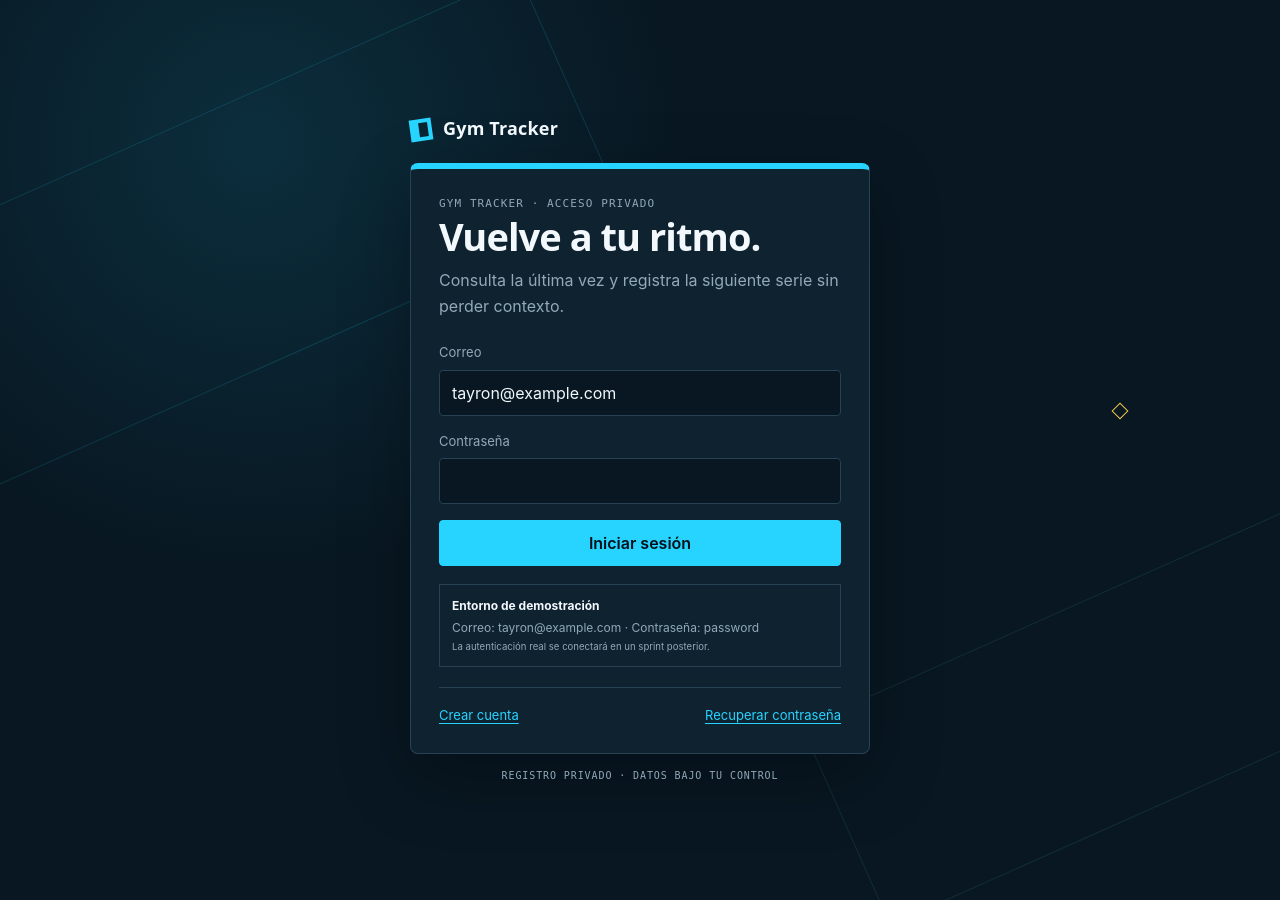
autenticación simulada › muestra error seguro, conserva el correo y limpia la contraseña
Replace the text in the field labelled "Correo" with "alguien@example.com": (640,393) [439,370,841,416]
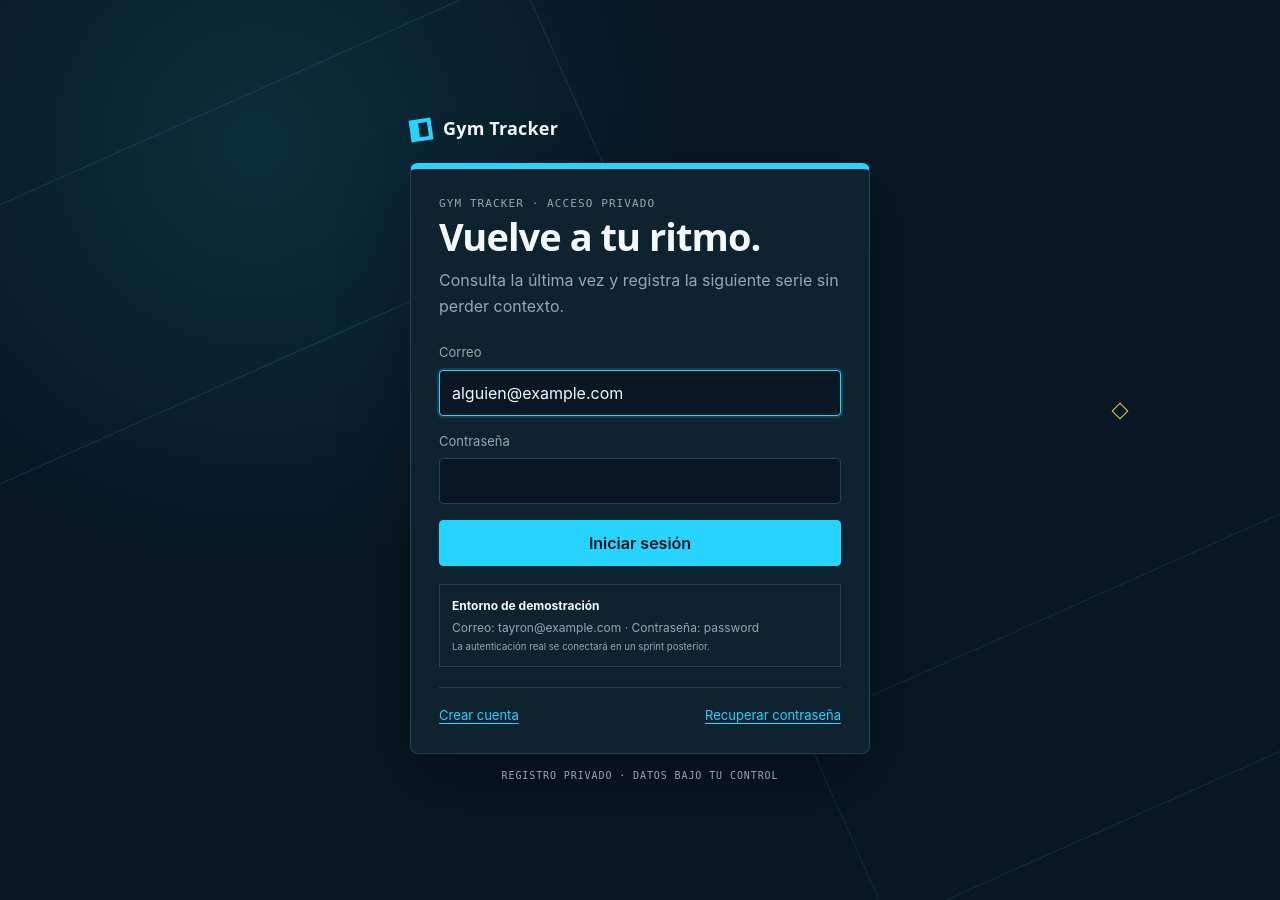
In the password field labelled "Contraseña": (640,481) [439,458,841,504], type "incorrecta"
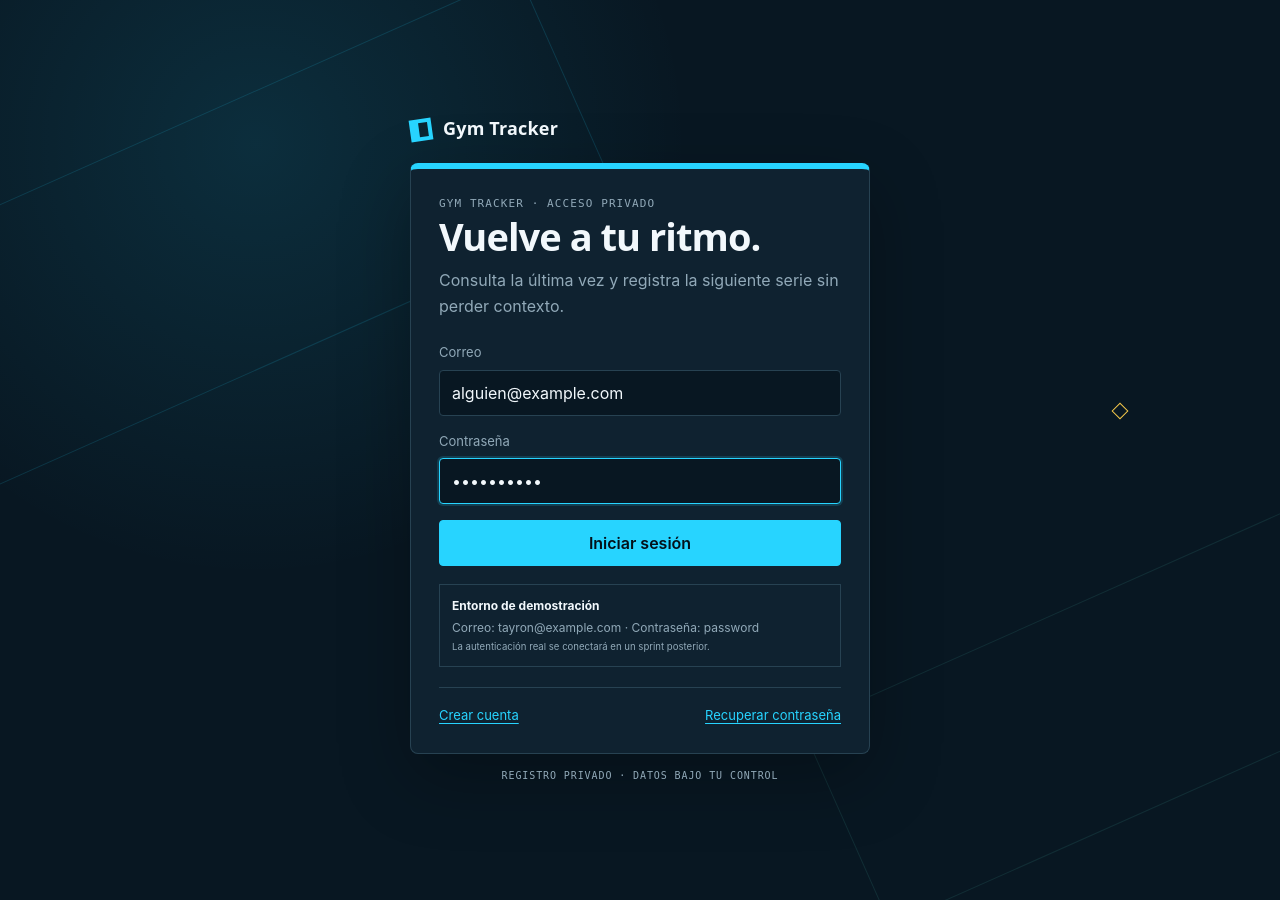
Click the button "Iniciar sesión": (640,543) [439,520,841,566]
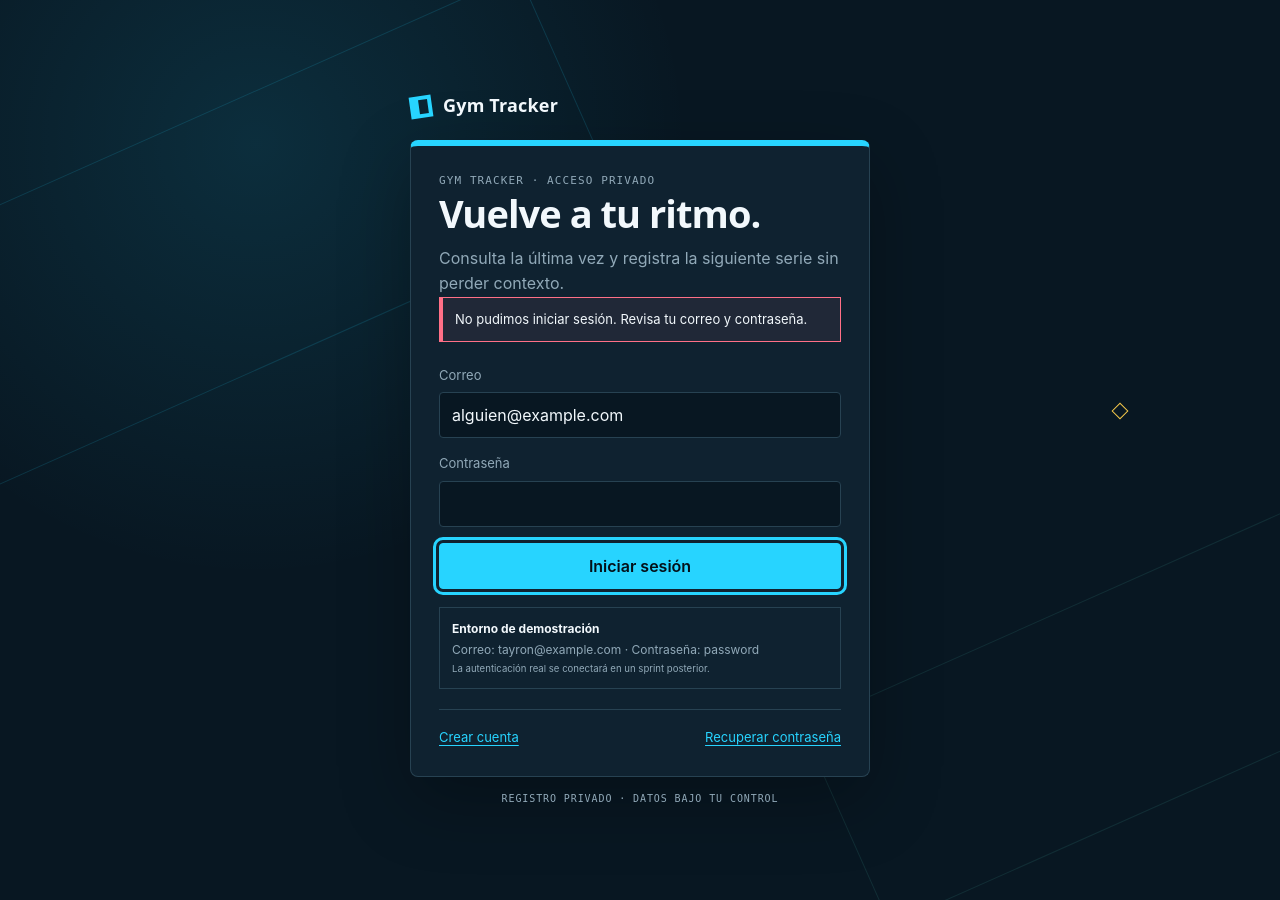
Expected: the message reads "No pudimos iniciar sesión. Revisa tu correo y contraseña.", [455,311,807,327]
Expected: the password field labelled "Contraseña" is empty, [439,481,841,527]
